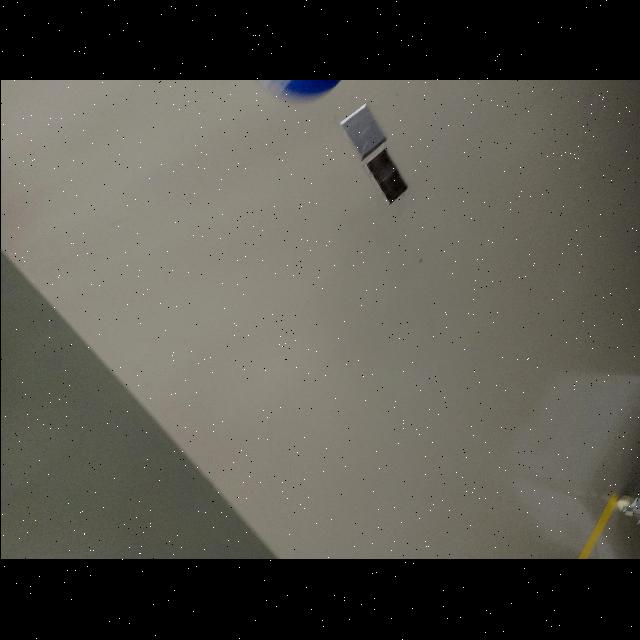B: (250, 80, 348, 102)
